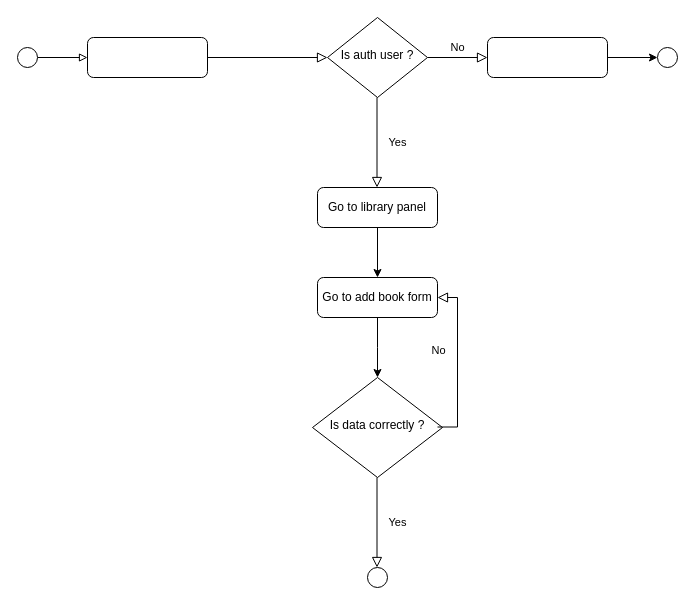
This 695x605 diagram has some shape labels left out. Each missing label, with the centre of its shape:
"Go to login page" goes at (x=547, y=57).
"Go to main page" goes at (x=147, y=57).
